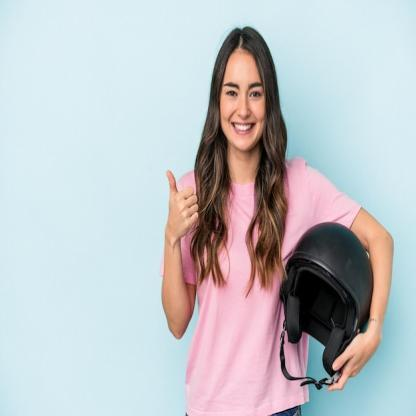thumb_up: (158, 167, 199, 240)
